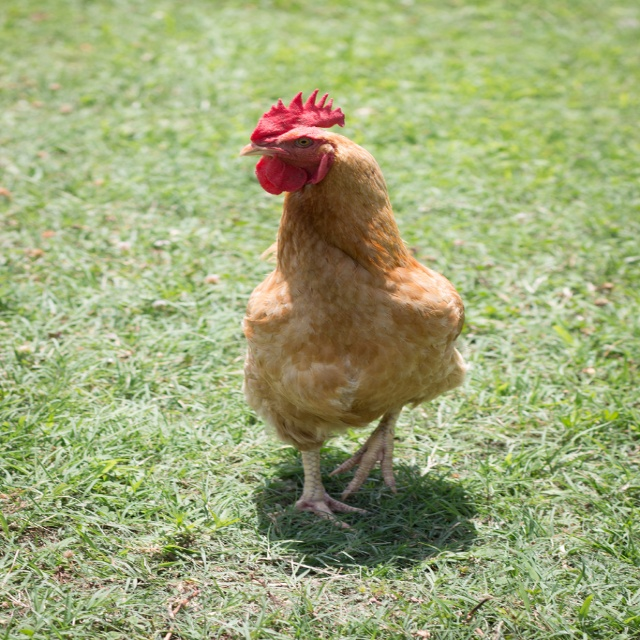Chicken: (239, 89, 466, 531)
